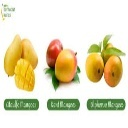mango: (46, 39, 64, 69)
